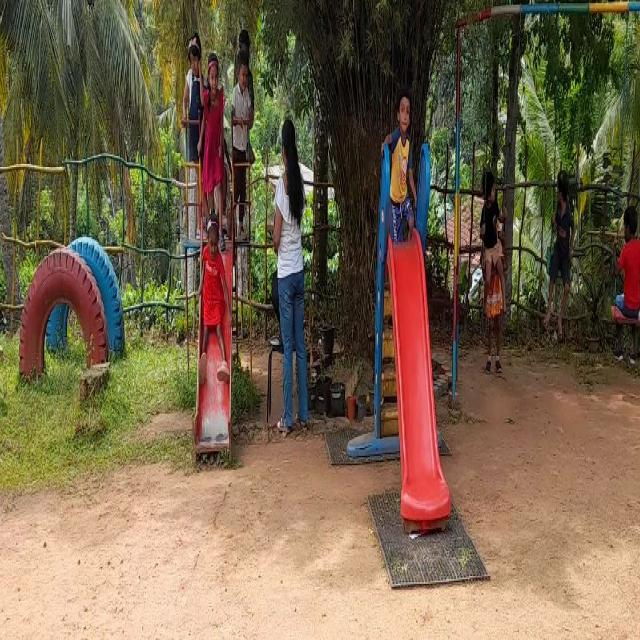adult: (270, 116, 311, 443)
child: (543, 163, 578, 344), (200, 38, 228, 215), (608, 190, 640, 344), (197, 215, 226, 384), (478, 154, 507, 318), (386, 82, 414, 246), (176, 22, 201, 197), (230, 37, 256, 199)
